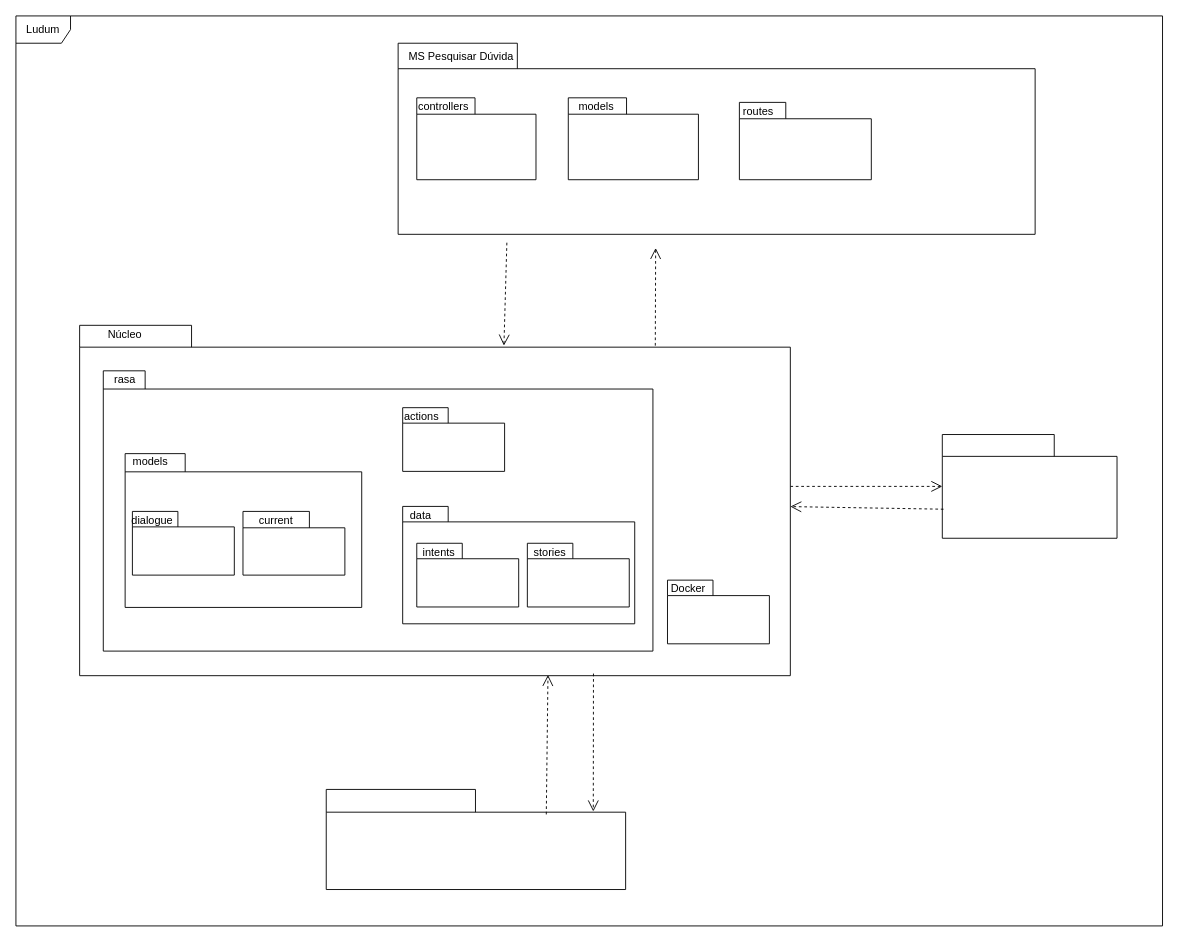
Image size: 1178x942. Some labels were removed from this diagram. The shapes that lost their labels are listed below. From the top down, each one's box as (x1, y1, x2, y2) in pixels, then its label:
(941, 434, 1117, 538): MS Notificação
(325, 789, 626, 890): MS Materiais, Links e Tutoriais
